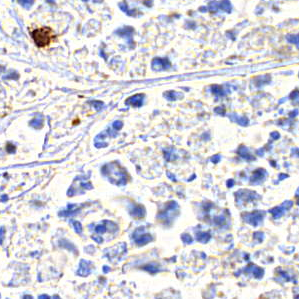Lymphocyte: (30, 26, 54, 49)
